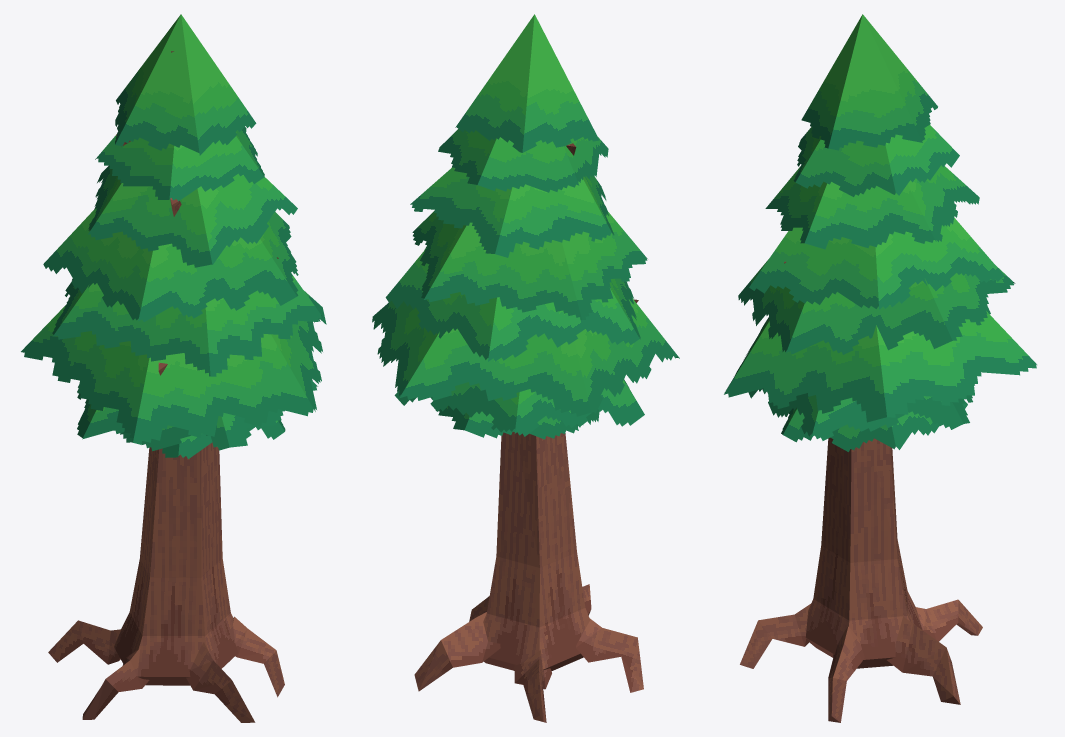
The picture shows the model from 3 angles, left to right: view 1: azimuth 30°, elevation 25°; view 2: azimuth 150°, elevation 25°; view 3: azimuth 270°, elevation 25°; orthographic projection. The views are drawn at different scales.
Parts seen in each view (by area): view 1: cylinder (×2); view 2: cylinder (×2); view 3: cylinder (×2).
Part boxes in pixels (x1,y1,x2,y2): cylinder (×2): (21,14,326,722); cylinder (×2): (372,14,679,722); cylinder (×2): (724,14,1036,722).
Size of the model in its own units: 5.02 by 11.43 by 5.21.
Materials: 2 (2 with a texture image).
